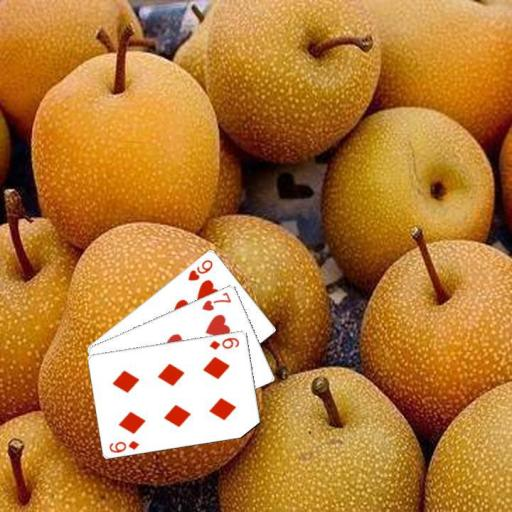6D: (206, 334, 241, 351), (106, 437, 141, 454)
7H: (199, 289, 233, 312)
9H: (185, 256, 214, 282)
